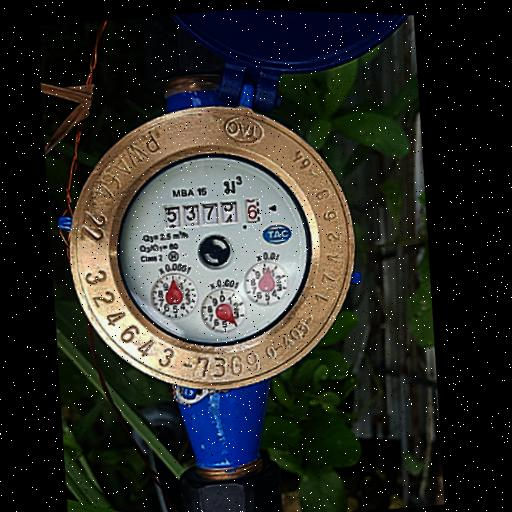3: (183, 204, 200, 227), (222, 201, 239, 224)
5: (163, 206, 182, 229)
6: (244, 198, 261, 223)
7: (202, 202, 218, 225)
border_water_meter_number: (160, 193, 262, 235)
